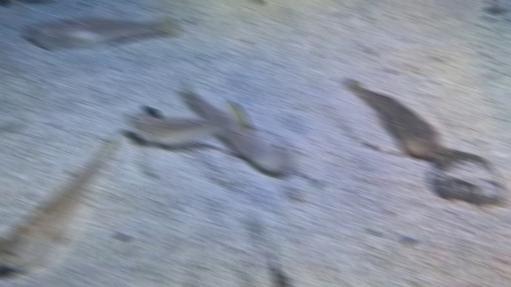Fish: (0, 133, 116, 271), (182, 83, 297, 173), (347, 77, 444, 159), (125, 107, 234, 156), (23, 16, 178, 50)
